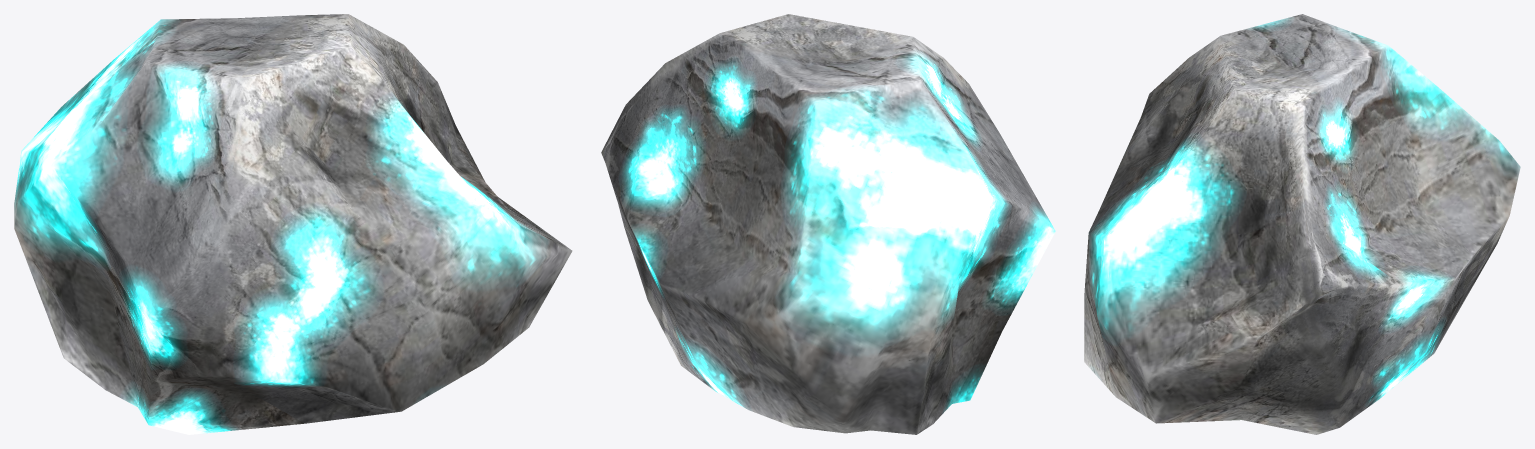
The model's file is asteroid1_blue.gltf.
3 renders of one model, left to right at view 1: azimuth 30°, elevation 25°; view 2: azimuth 150°, elevation 25°; view 3: azimuth 270°, elevation 25°, orthographic. The views are drawn at different scales.
Parts seen in each view (by area): view 1: low_poly; view 2: low_poly; view 3: low_poly.
Part boxes in pixels (x1=…): low_poly: x1=14, y1=14, x2=572, y2=434; low_poly: x1=601, y1=14, x2=1055, y2=434; low_poly: x1=1084, y1=14, x2=1520, y2=434.
Bounding box in the file's own units: 1.91 × 1.51 × 1.78.
Materials: 1 (1 with a texture image).
